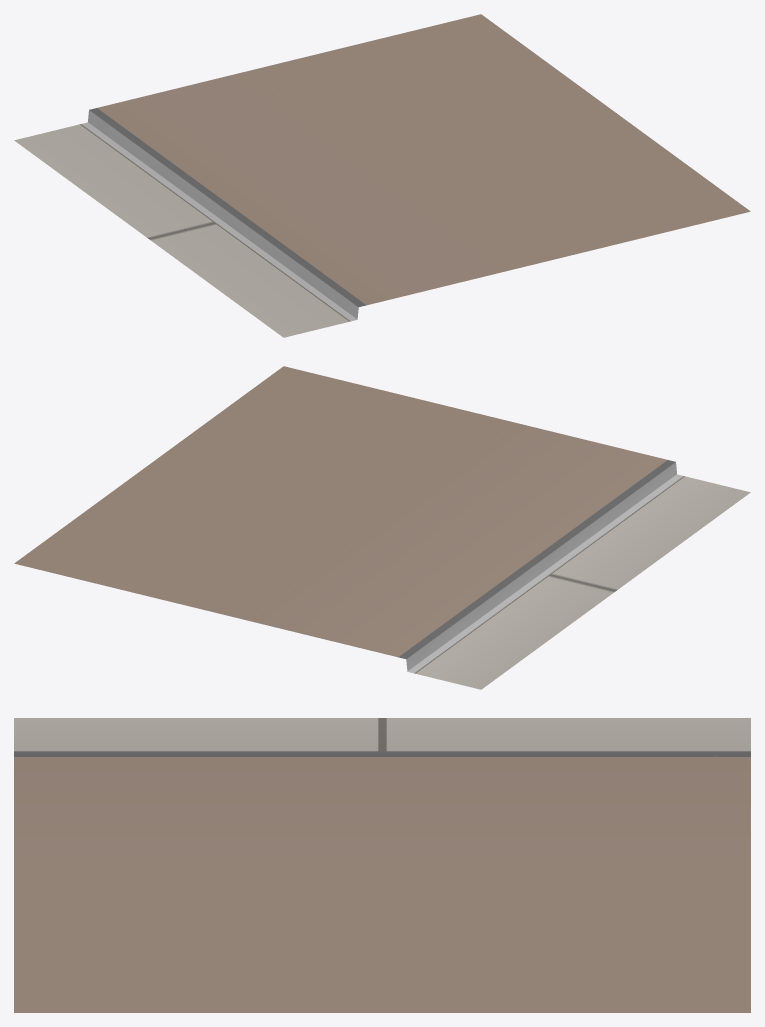
File: island_straight.fbx
The picture shows the model from 3 angles, top to bottom: view 1: azimuth 30°, elevation 25°; view 2: azimuth 150°, elevation 25°; view 3: azimuth 270°, elevation 25°; orthographic projection. The views are drawn at different scales.
Parts seen in each view (by area): view 1: island_tile_straight; view 2: island_tile_straight; view 3: island_tile_straight.
Part boxes in pixels (x1,y1,x2,y2): island_tile_straight: (14,14,750,337); island_tile_straight: (14,366,750,689); island_tile_straight: (14,718,750,1012).
Size of the model in its own units: 4 by 0.1 by 4.
